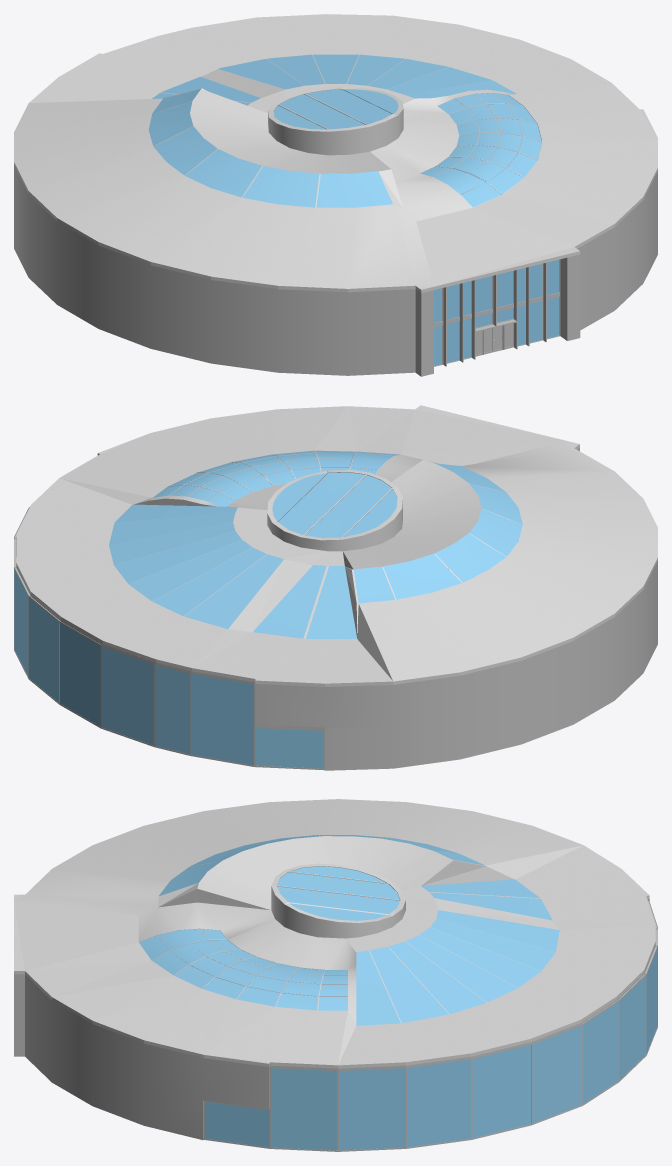
Rendered from env_museumShell01.FBX.
3 renders of one model, top to bottom at view 1: azimuth 30°, elevation 25°; view 2: azimuth 150°, elevation 25°; view 3: azimuth 270°, elevation 25°, orthographic.
Parts seen in each view (by area): view 1: env_museum, env_museumWindowGlass, prop_doorDouble05; view 2: env_museum, env_museumWindowGlass; view 3: env_museum, env_museumWindowGlass.
Part boxes in pixels (left/top/right/bottom): env_museum: left=14, top=14, right=657, bottom=376; env_museumWindowGlass: left=148, top=54, right=559, bottom=365; prop_doorDouble05: left=475, top=323, right=513, bottom=356; env_museum: left=14, top=405, right=657, bottom=770; env_museumWindowGlass: left=14, top=451, right=522, bottom=768; env_museum: left=14, top=799, right=657, bottom=1151; env_museumWindowGlass: left=139, top=835, right=657, bottom=1150.
Size of what is drawn, in the model's own units: 52.75 by 12.22 by 53.71.
